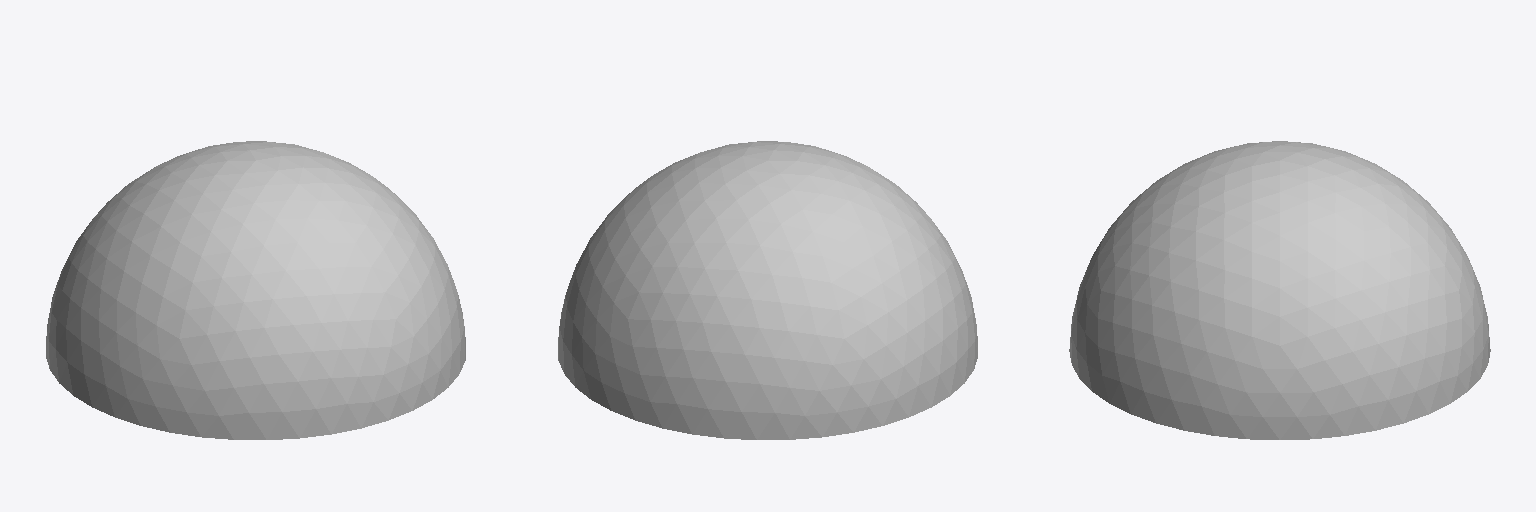
The model's file is skydome.obj.
3 views of the same model, side by side, from view 1: azimuth 30°, elevation 25°; view 2: azimuth 150°, elevation 25°; view 3: azimuth 270°, elevation 25° (orthographic).
Parts seen in each view (by area): view 1: Icosphere; view 2: Icosphere; view 3: Icosphere.
Part boxes in pixels (left/top/right/bottom): Icosphere: left=46, top=141, right=465, bottom=439; Icosphere: left=558, top=141, right=977, bottom=439; Icosphere: left=1069, top=141, right=1490, bottom=439.
Size of the model in its own units: 10 by 5 by 10.